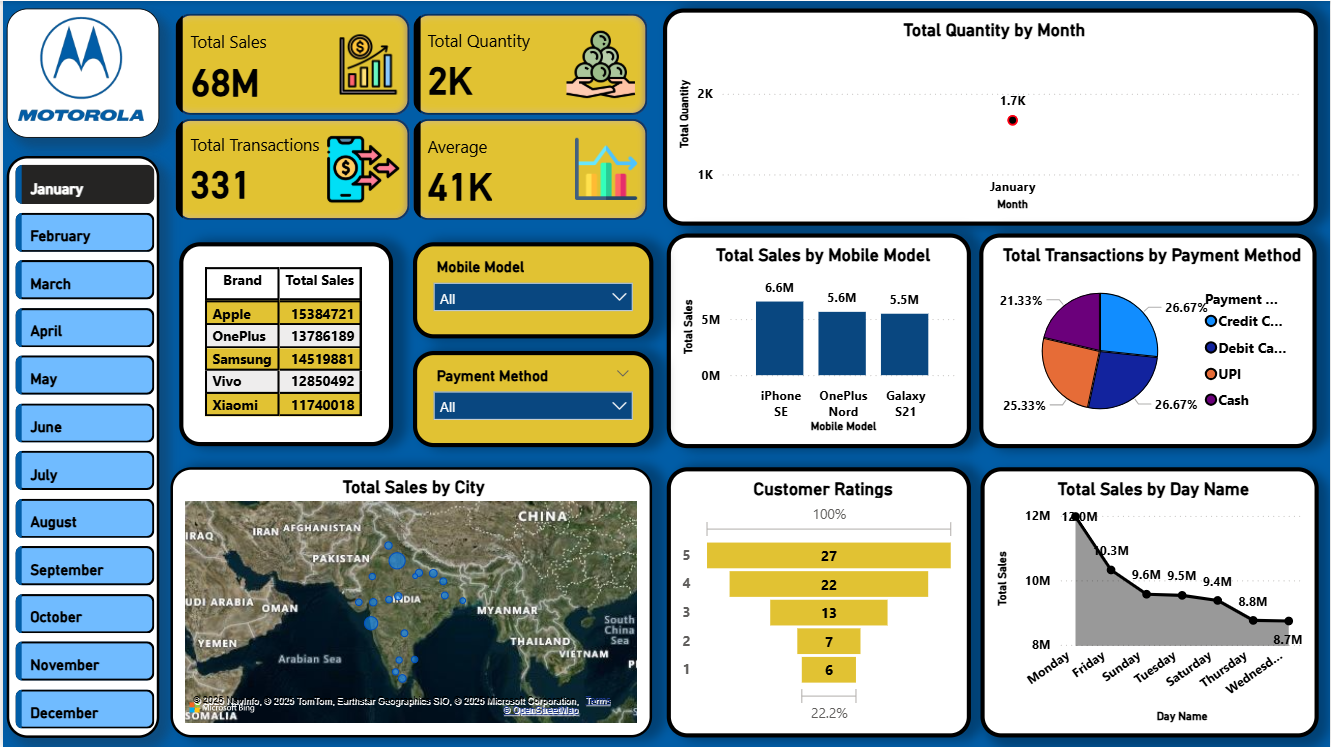

The dashboard page shown, as its layout file describes it:
{"tool":"powerbi","page":{"name":"Page 1","canvas":[1280,720],"ordinal":0},"visuals":[{"type":"shape","box":[4.1,6.9,146.8,124.9],"z":0},{"type":"image","box":[9.6,0,131.7,131.7],"z":1000},{"type":"shape","box":[4.1,149.6,146.8,561.2],"z":2000},{"type":"advancedSlicerVisual","fields":{"Values":["Sales_Data.Date.Variation.Date Hierarchy.Month"]},"box":[6.9,153.7,144.1,557.1],"z":3000},{"type":"cardVisual","fields":{"Data":["Sales_Data.Total Sales","Sales_Data.Total Quantity","Sales_Data.Total Transactions","Sales_Data.Average"]},"box":[161.9,6.9,465.2,209.9],"z":4000},{"type":"map","fields":{"Size":["Sales_Data.Total Sales"],"Category":["Sales_Data.City"]},"box":[162.2,450,464.6,261],"z":5000},{"type":"lineChart","fields":{"Category":["Sales_Data.Date.Variation.Date Hierarchy.Month","Sales_Data.Date.Variation.Date Hierarchy.Day"],"Y":["Sales_Data.Total Quantity"]},"box":[636.6,7.3,631.7,209.8],"z":6000},{"type":"clusteredColumnChart","fields":{"Category":["Sales_Data.Mobile Model"],"Y":["Sales_Data.Total Sales"]},"box":[640.2,224.4,293.9,207.3],"z":7000},{"type":"pieChart","fields":{"Category":["Sales_Data.Payment Method"],"Y":["Sales_Data.Total Transactions"]},"box":[942.7,224.4,325.6,207.3],"z":8000},{"type":"funnel","title":"Customer Ratings","fields":{"Category":["Sales_Data.Customer Ratings"],"Y":["CountNonNull(Sales_Data.Customer Ratings)"]},"box":[640.2,450,293.9,261],"z":9000},{"type":"areaChart","fields":{"Category":["Sales_Data.Day Name"],"Y":["Sales_Data.Total Sales"]},"box":[943,450,326,261],"z":10000},{"type":"tableEx","fields":{"Values":["Sales_Data.Brand","Sales_Data.Total Sales"]},"box":[170,232.9,206.1,197],"z":11000},{"type":"slicer","fields":{"Values":["Sales_Data.Mobile Model"]},"box":[395.1,232.9,231.7,92.7],"z":13000},{"type":"slicer","fields":{"Values":["Sales_Data.Payment Method"]},"box":[395.1,337.8,231.7,92.7],"z":14000}]}

Visuals, with their boxes in screenshot pixels (x1, y1, x2, y2), scaled from the page's 1280x720 canvas onto the 1331x747 screenshot:
shape: 4,7,157,137
image: 10,0,147,137
shape: 4,155,157,737
advancedSlicerVisual - Sales_Data.Date.Variation.Date Hierarchy.Month: 7,159,157,737
cardVisual - Sales_Data.Total Sales x Sales_Data.Total Quantity: 168,7,652,225
map - Sales_Data.Total Sales x Sales_Data.City: 169,467,652,738
lineChart - Sales_Data.Date.Variation.Date Hierarchy.Month x Sales_Data.Date.Variation.Date Hierarchy.Day: 662,8,1319,225
clusteredColumnChart - Sales_Data.Mobile Model x Sales_Data.Total Sales: 666,233,971,448
pieChart - Sales_Data.Payment Method x Sales_Data.Total Transactions: 980,233,1319,448
"Customer Ratings" funnel: 666,467,971,738
areaChart - Sales_Data.Day Name x Sales_Data.Total Sales: 981,467,1320,738
tableEx - Sales_Data.Brand x Sales_Data.Total Sales: 177,242,391,446
slicer - Sales_Data.Mobile Model: 411,242,652,338
slicer - Sales_Data.Payment Method: 411,350,652,447
